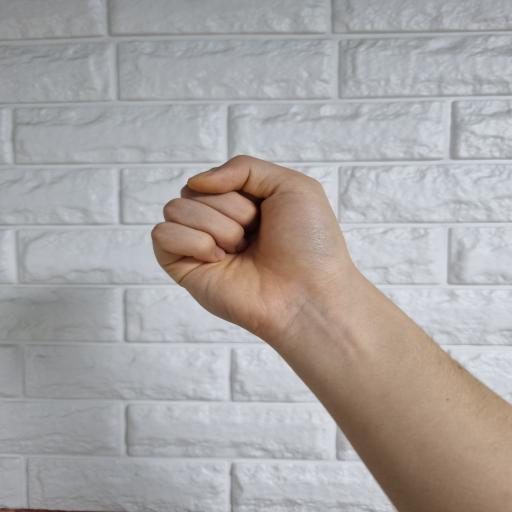Rock: (151, 157, 349, 333)
